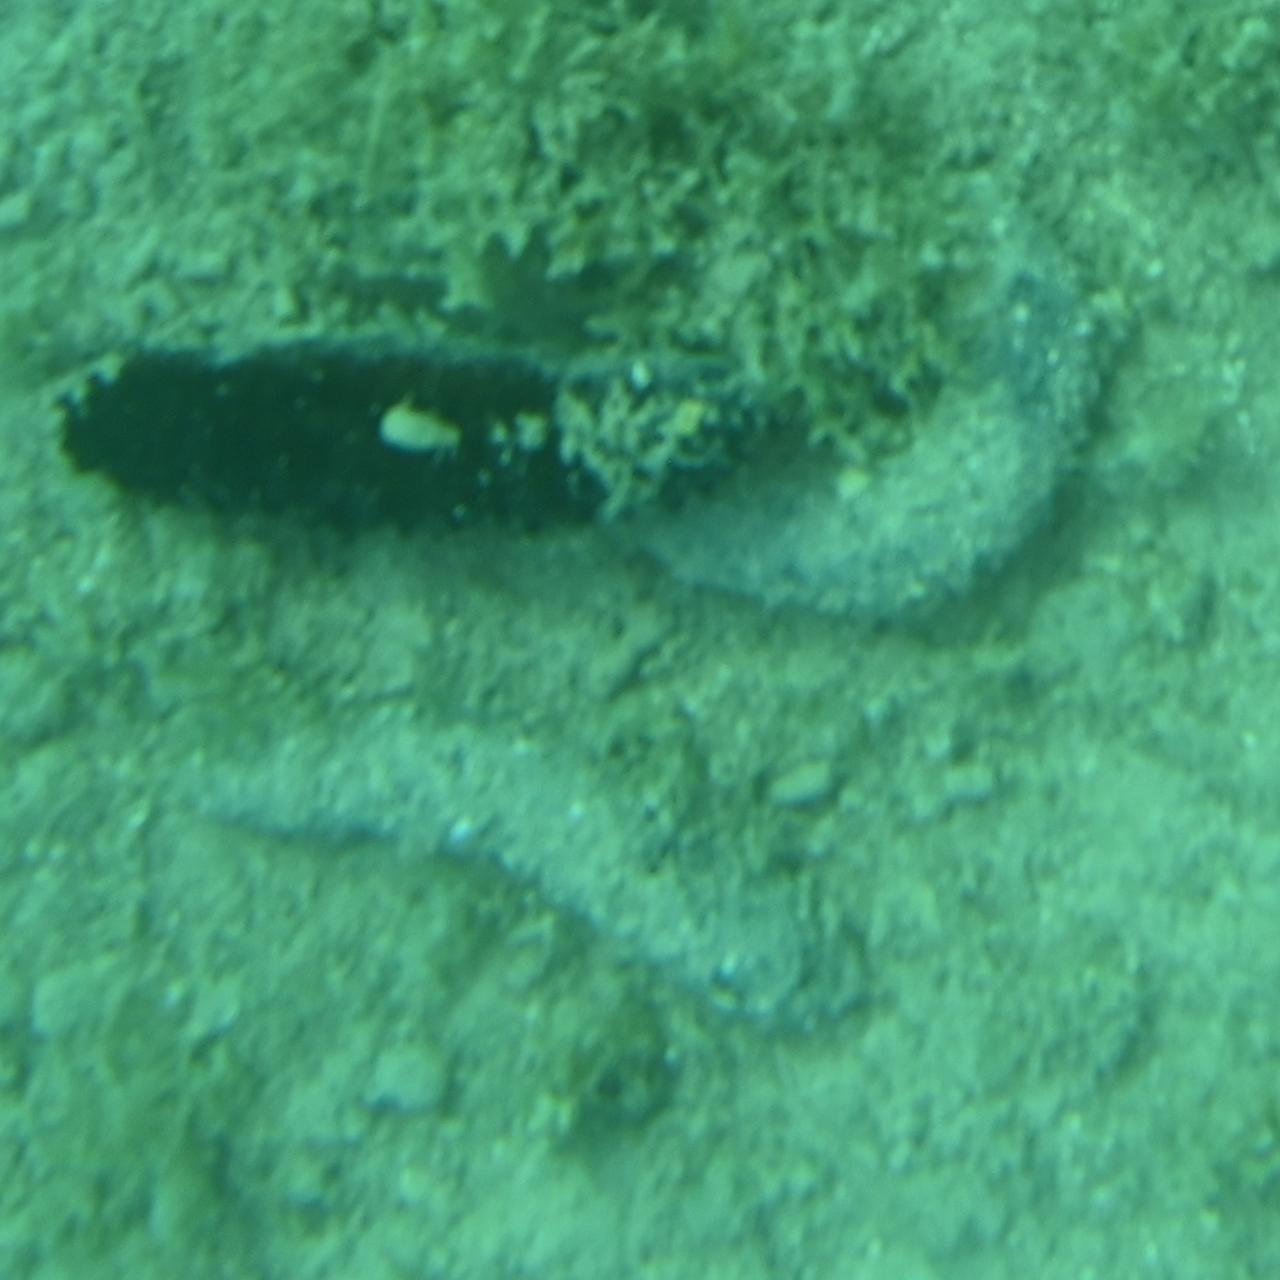Holothuria tubulosa: (163, 697, 867, 1077), (595, 253, 1143, 639), (41, 336, 782, 544)
